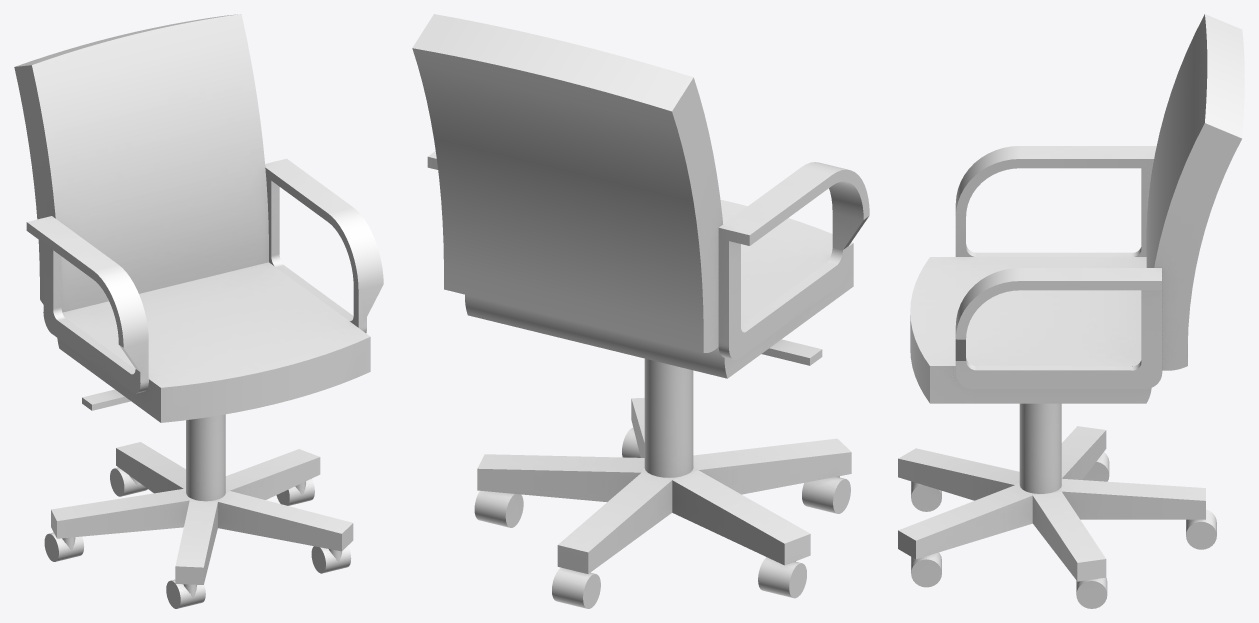
Rendered from chair-office.glb.
The picture shows the model from 3 angles, left to right: view 1: azimuth 30°, elevation 25°; view 2: azimuth 150°, elevation 25°; view 3: azimuth 270°, elevation 25°; orthographic projection. The views are drawn at different scales.
Visible parts, largest first — view 1: Object_4; view 2: Object_4; view 3: Object_4.
Part boxes in pixels (left/top/right/bottom): Object_4: left=14, top=14, right=383, bottom=608; Object_4: left=412, top=14, right=869, bottom=608; Object_4: left=898, top=14, right=1244, bottom=608.
Size of the model in its own units: 0.6427 by 1.04 by 0.6721.
1 material, 1 textured.
